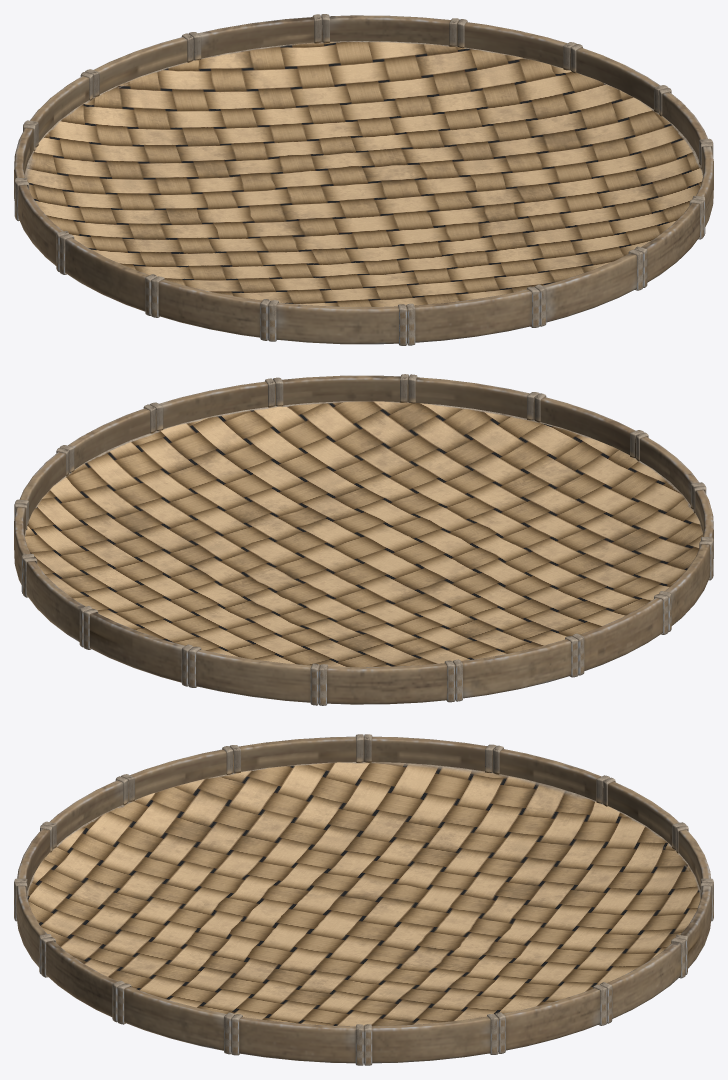
3 renders of one model, top to bottom at view 1: azimuth 30°, elevation 25°; view 2: azimuth 150°, elevation 25°; view 3: azimuth 270°, elevation 25°, orthographic.
Parts seen in each view (by area): view 1: Object001_Traditionalbamboobasket_0; view 2: Object001_Traditionalbamboobasket_0; view 3: Object001_Traditionalbamboobasket_0.
Boxes of the visible parts, left/top/right/bottom form: Object001_Traditionalbamboobasket_0: left=14, top=14, right=713, bottom=345; Object001_Traditionalbamboobasket_0: left=14, top=374, right=713, bottom=705; Object001_Traditionalbamboobasket_0: left=14, top=734, right=713, bottom=1065.
Size of the model in its own units: 1.8 by 0.1769 by 1.8.
1 material, 1 textured.
